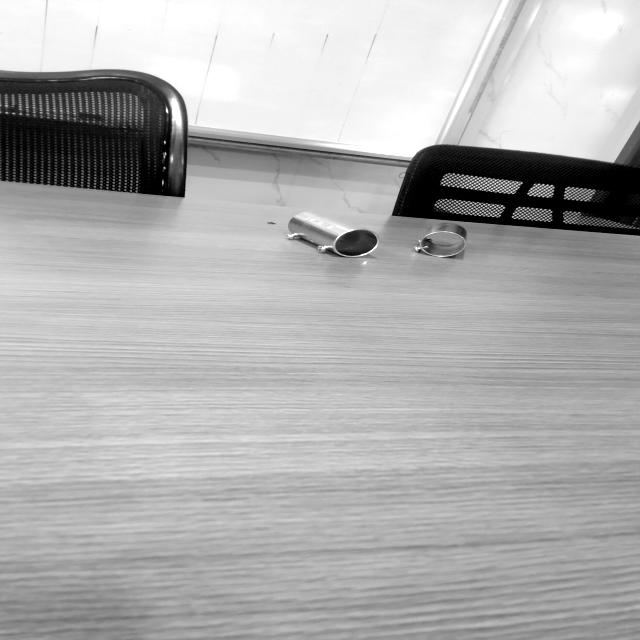Co_Lon: (283, 204, 382, 268)
Co_Nho: (414, 216, 469, 263)
